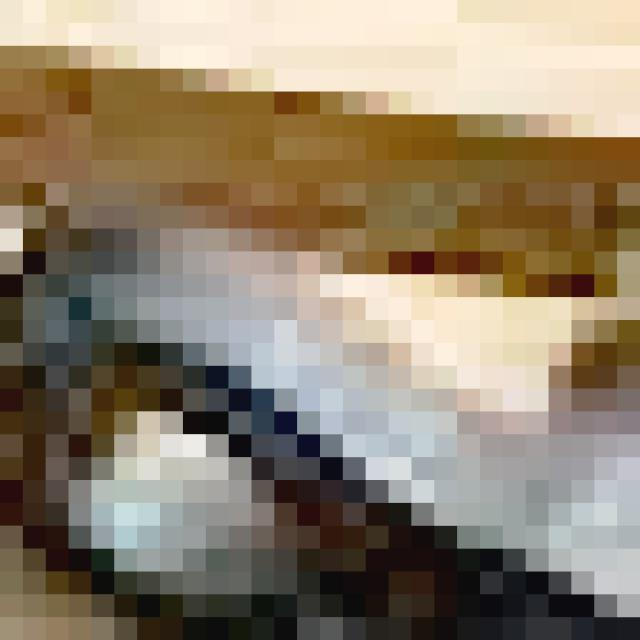arms: (0, 186, 640, 640)
